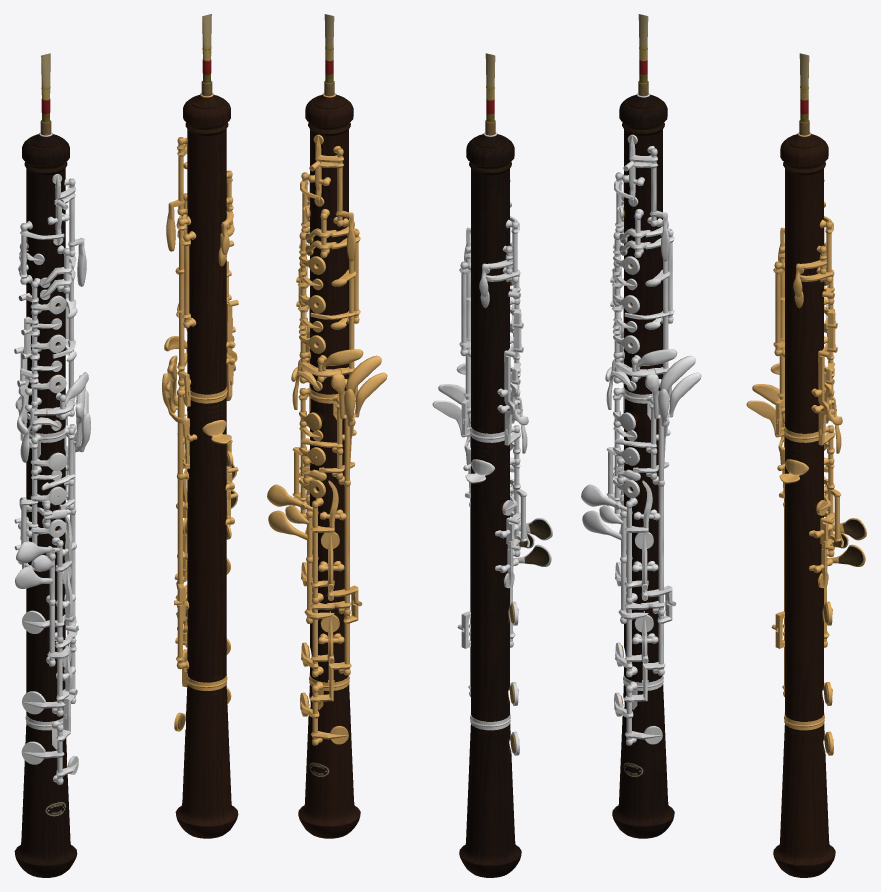
The model's file is mobile.0872c9bd4aed.glb.
3 renders of one model, left to right at view 1: azimuth 30°, elevation 25°; view 2: azimuth 150°, elevation 25°; view 3: azimuth 330°, elevation 25°, orthographic.
Parts seen in each view (by area): view 1: Oboe_Base (×2), polySurface13 (×2), polySurface4 (×2), polySurface9, RodCorner1, PadAndRod14, Rod2, Rod33, PadAndRod28, polySurface14, polySurface2, PadAndRod13 (+14 smaller); view 2: Oboe_Base (×2), polySurface13 (×2), polySurface9 (×2), PadAndRod14 (×2), polySurface4, RodCorner1, Rod2, polySurface12, polySurface2, RodCorner4, PadAndRod37, polySurface5 (+3 smaller); view 3: Oboe_Base (×2), polySurface13 (×2), polySurface9 (×2), PadAndRod14 (×2), polySurface4, RodCorner1, Rod2, polySurface12, polySurface2, RodCorner4, PadAndRod37, polySurface5 (+3 smaller).
Part boxes in pixels (left/top/right/bottom): Oboe_Base (×2): left=14, top=14, right=238, bottom=877; polySurface13 (×2): left=70, top=355, right=182, bottom=618; polySurface4 (×2): left=52, top=144, right=187, bottom=286; polySurface9: left=16, top=541, right=65, bottom=637; RodCorner1: left=21, top=714, right=78, bottom=779; PadAndRod14: left=14, top=470, right=66, bottom=544; Rod2: left=22, top=636, right=72, bottom=714; Rod33: left=179, top=225, right=184, bottom=380; PadAndRod28: left=18, top=288, right=66, bottom=355; polySurface14: left=20, top=407, right=61, bottom=462; polySurface2: left=46, top=372, right=88, bottom=415; PadAndRod13: left=20, top=425, right=66, bottom=470; Oboe_Base (×2): left=298, top=14, right=521, bottom=877; polySurface13 (×2): left=331, top=372, right=470, bottom=612; polySurface9 (×2): left=267, top=484, right=552, bottom=625; PadAndRod14 (×2): left=292, top=427, right=527, bottom=542; polySurface4: left=313, top=134, right=355, bottom=261; RodCorner1: left=300, top=680, right=348, bottom=744; Rod2: left=301, top=602, right=334, bottom=671; polySurface12: left=326, top=355, right=381, bottom=610; polySurface2: left=306, top=349, right=363, bottom=377; RodCorner4: left=328, top=600, right=358, bottom=681; PadAndRod37: left=330, top=236, right=360, bottom=329; polySurface5: left=480, top=216, right=519, bottom=308; Oboe_Base (×2): left=612, top=14, right=835, bottom=877; polySurface13 (×2): left=645, top=372, right=784, bottom=612; polySurface9 (×2): left=581, top=484, right=866, bottom=625; PadAndRod14 (×2): left=606, top=427, right=841, bottom=542; polySurface4: left=627, top=134, right=669, bottom=261; RodCorner1: left=614, top=680, right=662, bottom=744; Rod2: left=615, top=602, right=648, bottom=671; polySurface12: left=640, top=355, right=695, bottom=610; polySurface2: left=620, top=349, right=677, bottom=377; RodCorner4: left=642, top=600, right=672, bottom=681; PadAndRod37: left=644, top=236, right=674, bottom=329; polySurface5: left=794, top=216, right=833, bottom=308.
Size of the model in its own units: 0.2203 by 0.6769 by 0.0579.
2 materials, 2 textured.
